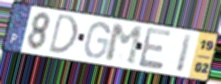8: (26, 11, 52, 52)
D: (46, 13, 79, 56)
E: (137, 26, 173, 71)
G: (83, 21, 112, 60)
I: (174, 33, 194, 74)
M: (104, 22, 145, 67)
